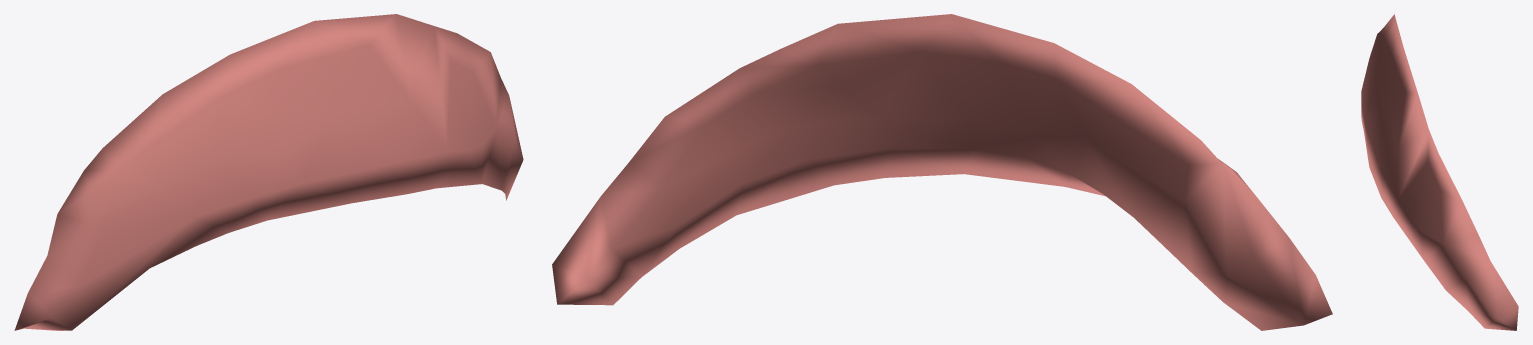
3 views of the same model, side by side, from view 1: azimuth 30°, elevation 25°; view 2: azimuth 150°, elevation 25°; view 3: azimuth 270°, elevation 25° (orthographic). The views are drawn at different scales.
Visible parts, largest first — view 1: ZA_fcbfdde3f2215593; view 2: ZA_fcbfdde3f2215593; view 3: ZA_fcbfdde3f2215593.
Part boxes in pixels (x1,y1,x2,y2): ZA_fcbfdde3f2215593: (14,14,523,330); ZA_fcbfdde3f2215593: (552,14,1332,330); ZA_fcbfdde3f2215593: (1361,14,1518,330).
Bounding box in the file's own units: 0.0255 × 0.0114 × 0.00828.
